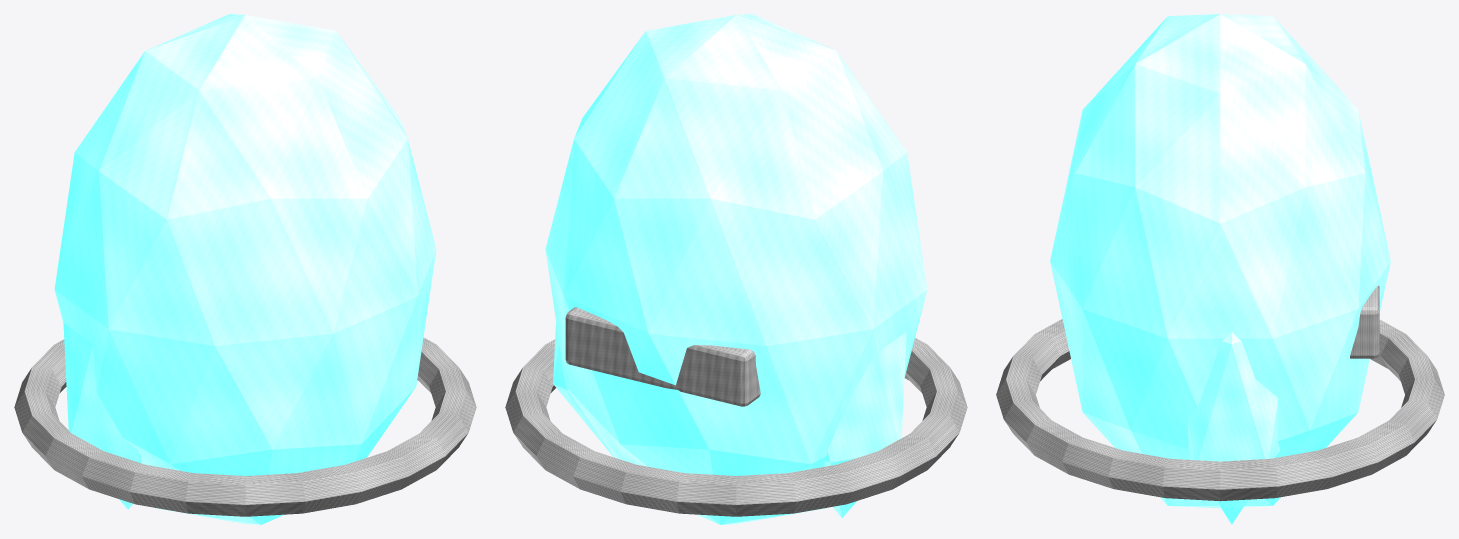
File: item-crystal-oscillator_variant_d.glb
The picture shows the model from 3 angles, left to right: view 1: azimuth 30°, elevation 25°; view 2: azimuth 150°, elevation 25°; view 3: azimuth 270°, elevation 25°; orthographic projection. The views are drawn at different scales.
Visible parts, largest first — view 1: Faceted crystal, Crystal containment ring, Crystal shard.007; view 2: Faceted crystal, Crystal containment ring, Variant modular rail, Crystal shard.007, Crystal shard; view 3: Faceted crystal, Crystal containment ring, Crystal shard, Variant modular rail.
Boxes of the visible parts, bbox=[...] form: Faceted crystal: bbox=[54, 14, 436, 524]; Crystal containment ring: bbox=[14, 337, 476, 516]; Crystal shard.007: bbox=[63, 322, 141, 509]; Faceted crystal: bbox=[545, 14, 927, 524]; Crystal containment ring: bbox=[505, 338, 967, 516]; Variant modular rail: bbox=[565, 307, 760, 406]; Crystal shard.007: bbox=[824, 331, 906, 517]; Crystal shard: bbox=[553, 322, 614, 457]; Faceted crystal: bbox=[1050, 14, 1390, 508]; Crystal containment ring: bbox=[996, 319, 1444, 501]; Crystal shard: bbox=[1187, 331, 1279, 524]; Variant modular rail: bbox=[1350, 285, 1379, 358].
Size of what is drawn, in the model's own units: 0.79 by 0.96 by 0.79.
Materials: 3 (3 with a texture image).
